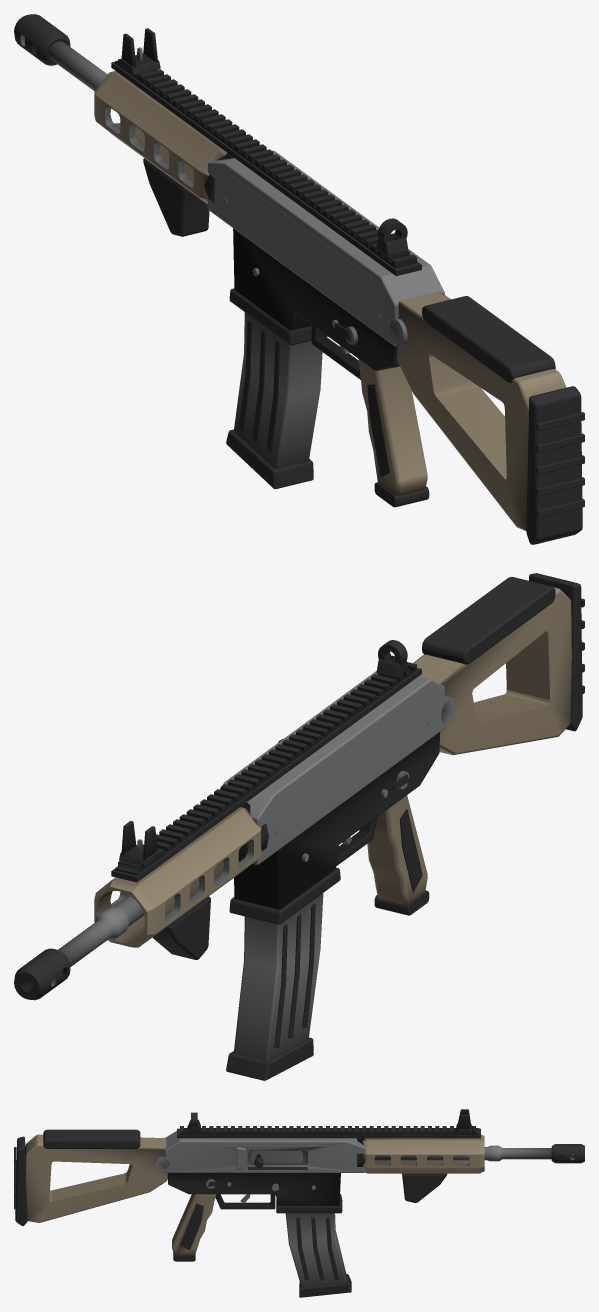
File: sentry_br3.glb
The picture shows the model from 3 angles, top to bottom: view 1: azimuth 30°, elevation 25°; view 2: azimuth 150°, elevation 25°; view 3: azimuth 270°, elevation 25°; orthographic projection. The views are drawn at different scales.
Parts seen in each view (by area): view 1: Receiver, Stock, Magazine, Handguard, Foregrip, IronSights, MuzzleBrake, Barrel; view 2: Receiver, Stock, Magazine, Handguard, Barrel, IronSights, Foregrip, MuzzleBrake; view 3: Receiver, Stock, Magazine, Handguard, Barrel, Foregrip, MuzzleBrake, Bolt, IronSights.
Part boxes in pixels (x1,y1,x2,y2): Receiver: (111, 59, 444, 507); Stock: (390, 291, 584, 544); Magazine: (226, 312, 322, 488); Handguard: (94, 71, 227, 203); Foregrip: (143, 158, 209, 236); IronSights: (119, 28, 408, 255); MuzzleBrake: (14, 14, 70, 65); Barrel: (48, 41, 108, 91); Receiver: (111, 662, 444, 924); Stock: (413, 573, 584, 755); Magazine: (226, 893, 323, 1080); Handguard: (94, 807, 261, 947); Barrel: (58, 895, 143, 966); IronSights: (119, 640, 408, 866); Foregrip: (152, 896, 210, 959); MuzzleBrake: (14, 948, 70, 1000); Receiver: (164, 1126, 480, 1261); Stock: (14, 1129, 169, 1225); Magazine: (285, 1213, 351, 1297); Handguard: (362, 1134, 484, 1173); Barrel: (374, 1145, 551, 1161); Foregrip: (402, 1173, 447, 1202); MuzzleBrake: (551, 1144, 584, 1163); Bolt: (250, 1150, 302, 1162); IronSights: (188, 1109, 472, 1133).
Size of the model in its own units: 0.0835 by 0.3278 by 0.939.
